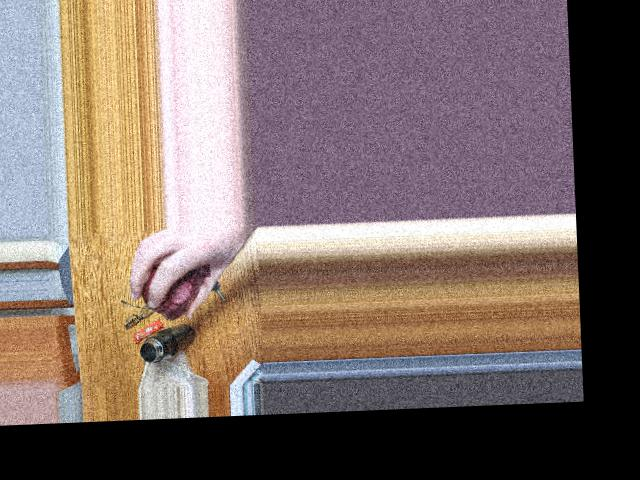onion: (143, 263, 205, 314)
